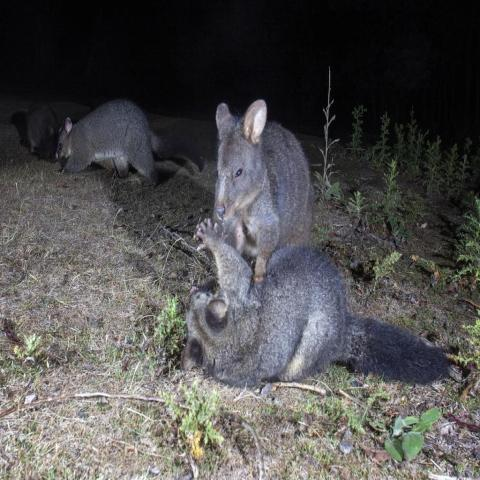small_animal: (178, 217, 454, 390), (207, 97, 316, 285), (55, 86, 168, 188), (19, 96, 63, 160)
